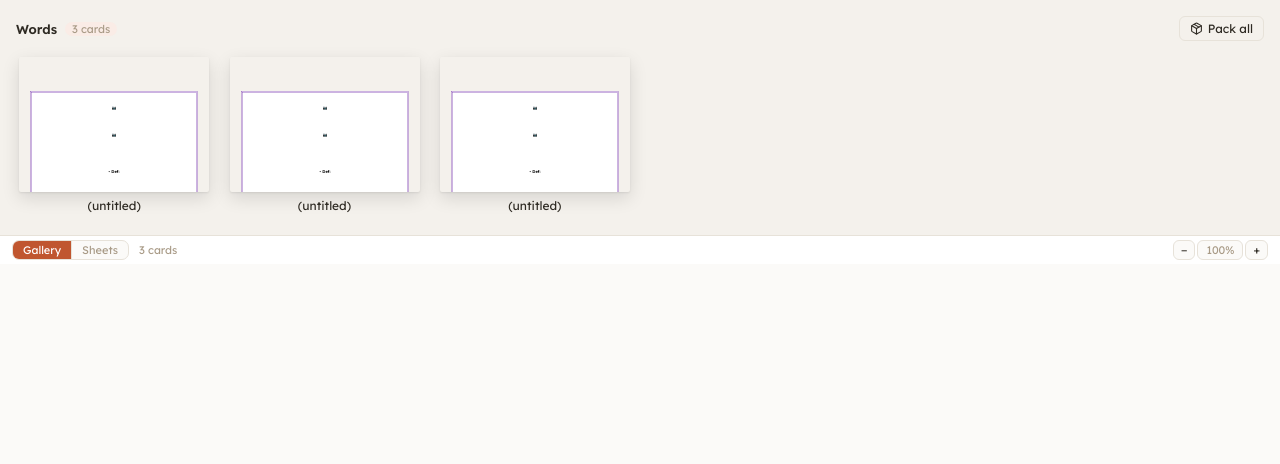
Test: CardGallery › Sheets view tiles the cards onto paper (one .fc-sheet per page, same as Print/PDF)
The width and height of the screenshot is (1280, 464).
Click the tab "Sheets": (100, 250) [72, 241, 128, 259]
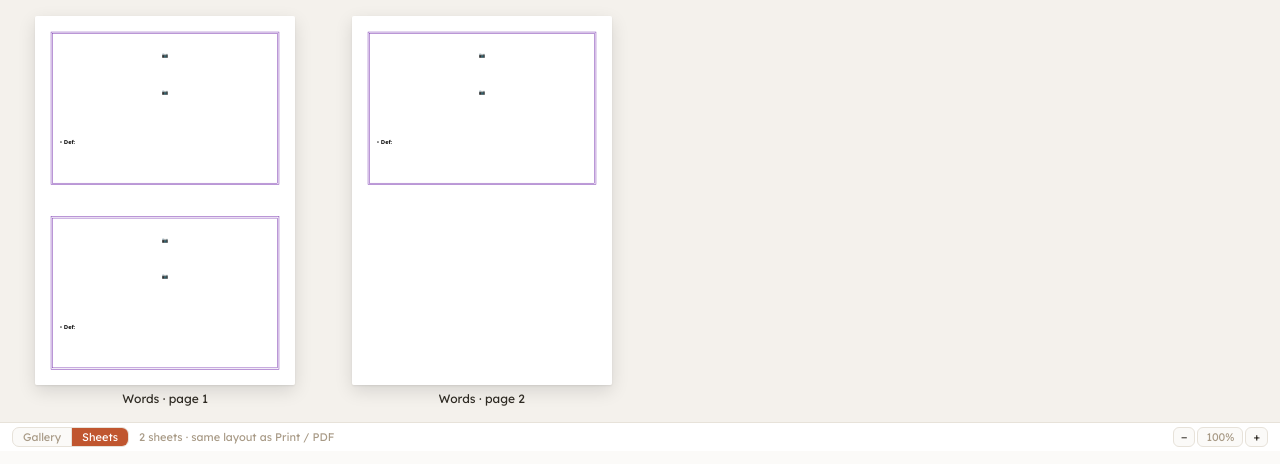
Result: the number of elements with class "fc-sheet" is 2 at [35, 16, 295, 385]; [352, 16, 612, 385]
Result: the button with class "thumb" is gone
